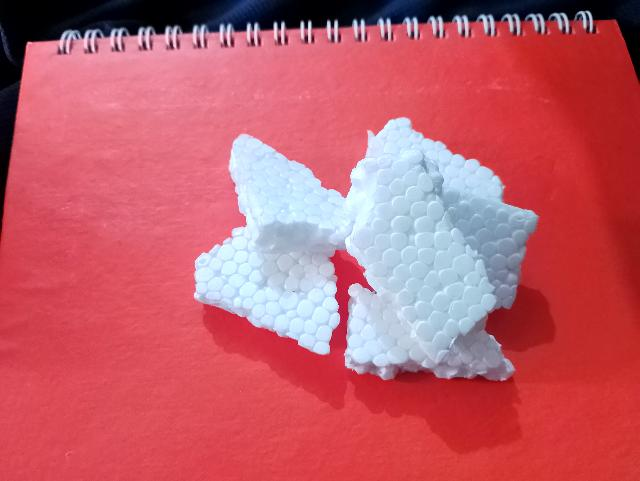cocksheet: (361, 105, 528, 385), (207, 116, 340, 343)
